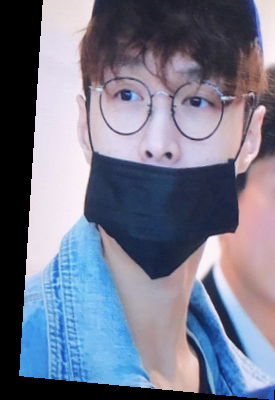mask_weared_incorrect: (55, 1, 275, 286)
